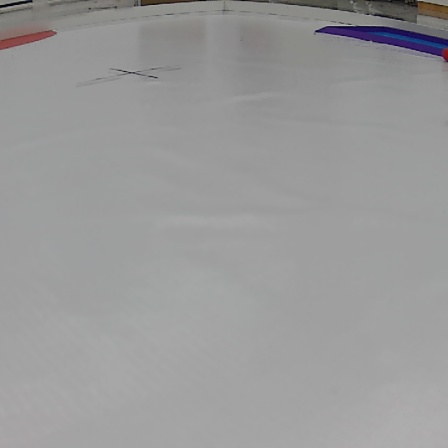blue_aim: (313, 13, 448, 63)
red: (442, 46, 448, 62)
red_base: (0, 27, 57, 46)
